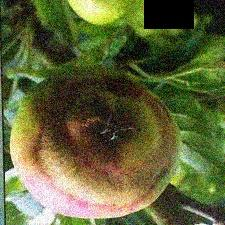rotten apple: (6, 66, 183, 220)
